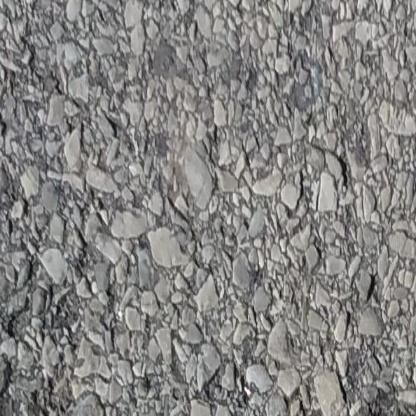Cracks: (351, 410, 416, 416), (0, 396, 14, 416)
